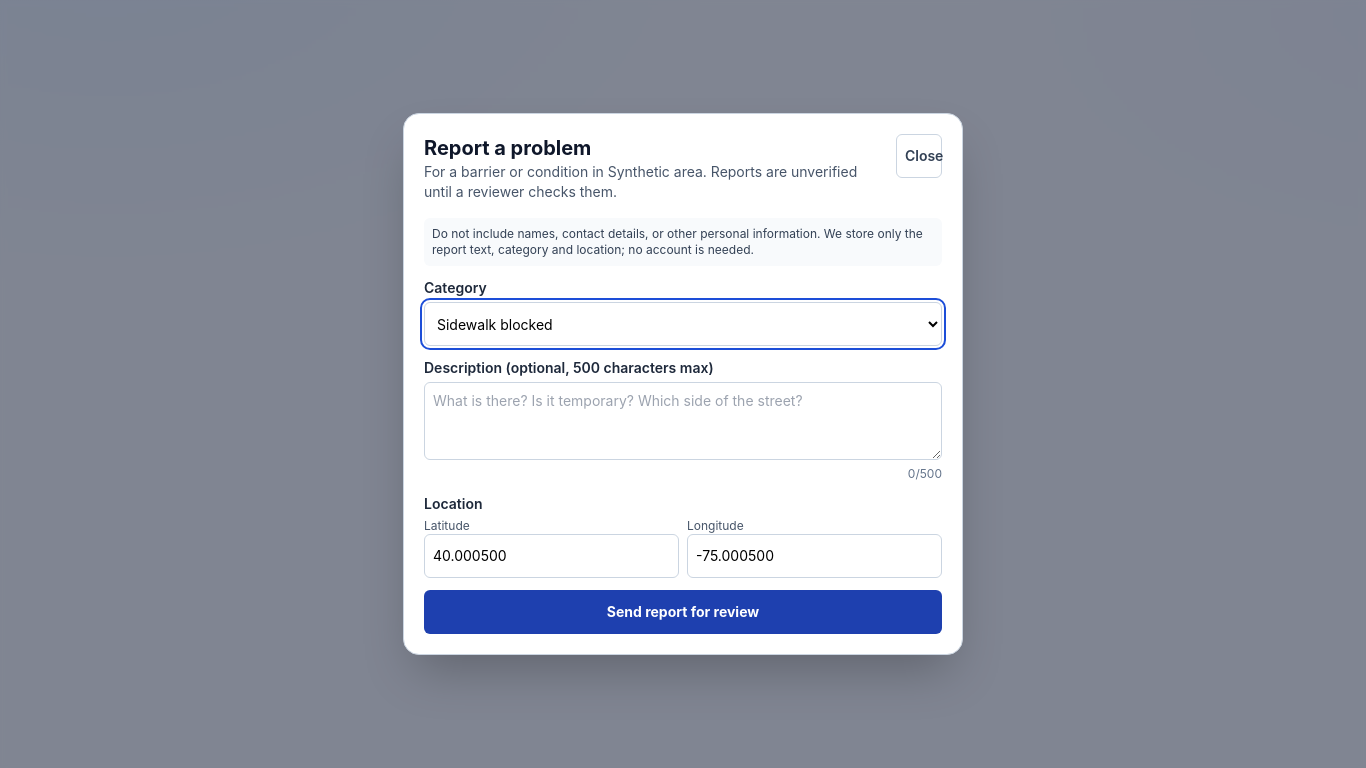
Test: ReportDialog › shows a plain-language error
Click the button "Send report for review" at point(683, 612), box [424,590,942,634]
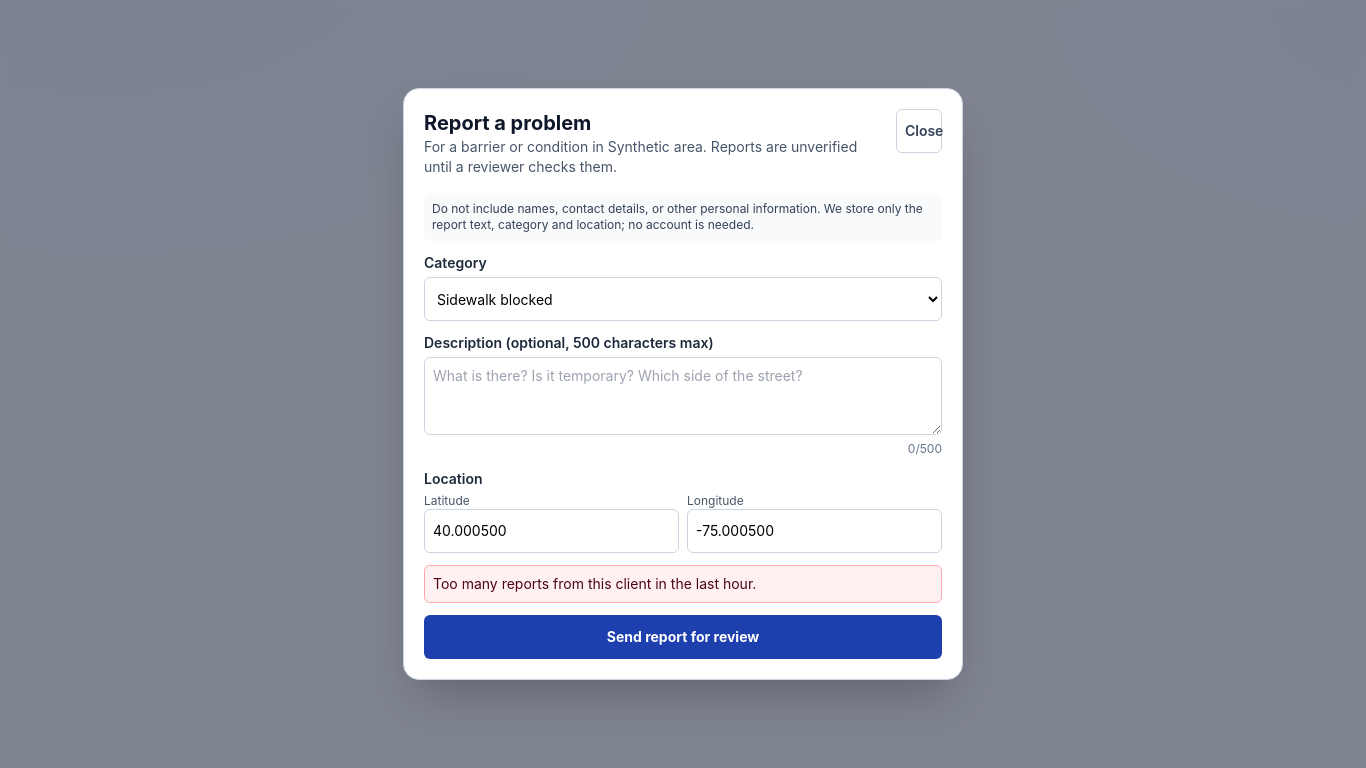
Check: the message shows "Too many reports", box [433,575,756,592]
